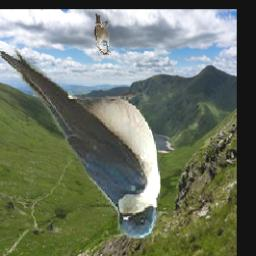Sparrow: (95, 14, 112, 56)
Swallow: (0, 49, 162, 240)
